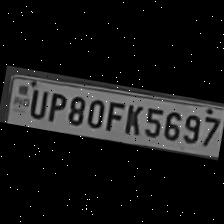0: (82, 92, 108, 130)
5: (139, 100, 164, 138)
6: (159, 104, 183, 141)
7: (197, 110, 222, 148)
8: (62, 89, 88, 126)
9: (178, 107, 202, 144)
F: (102, 96, 126, 134)
K: (118, 98, 144, 136)
P: (43, 86, 68, 124)
U: (24, 84, 48, 120)
